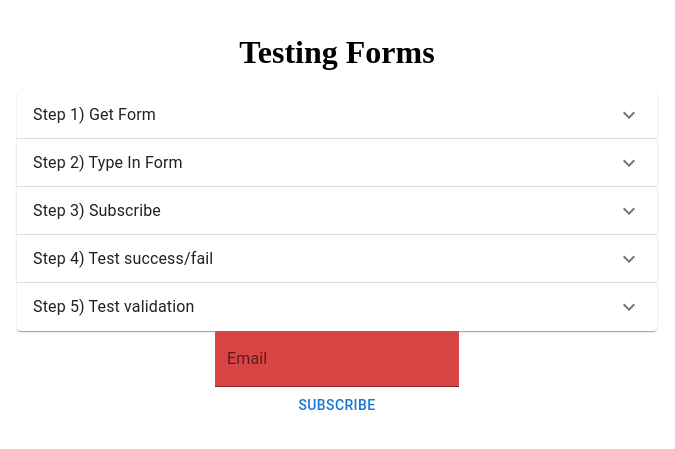
Forms test › Test sucessfull subscribe
The width and height of the screenshot is (675, 449).
Expected: the heading "Testing Forms" is shown, [239,34,435,71]
Type "boti@test.com" into the field labelled "Email" at (337, 359), box [215,331,459,387]
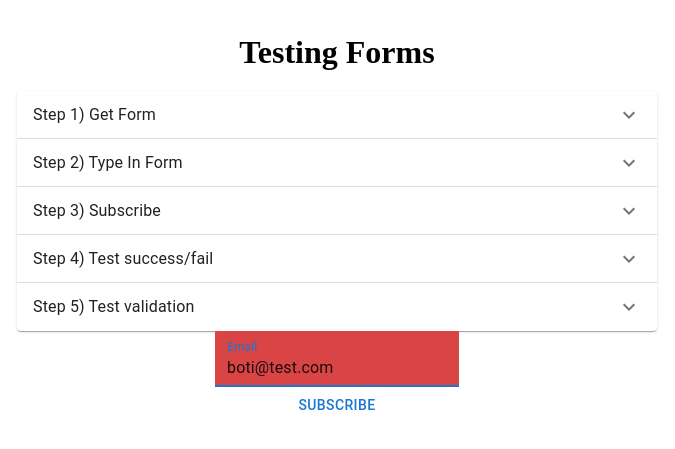
Click the button with test id "subscribe-button" at (338, 406), box [291,387,384,424]
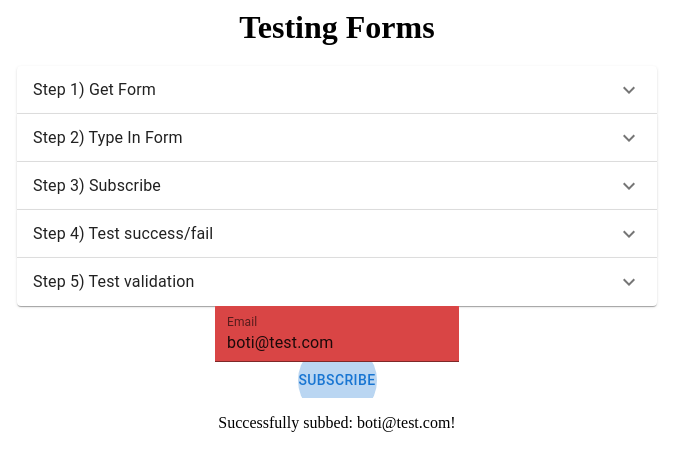
Now the text "Successfully subbed: boti@test.com!" is shown, box [218,414,456,432]
